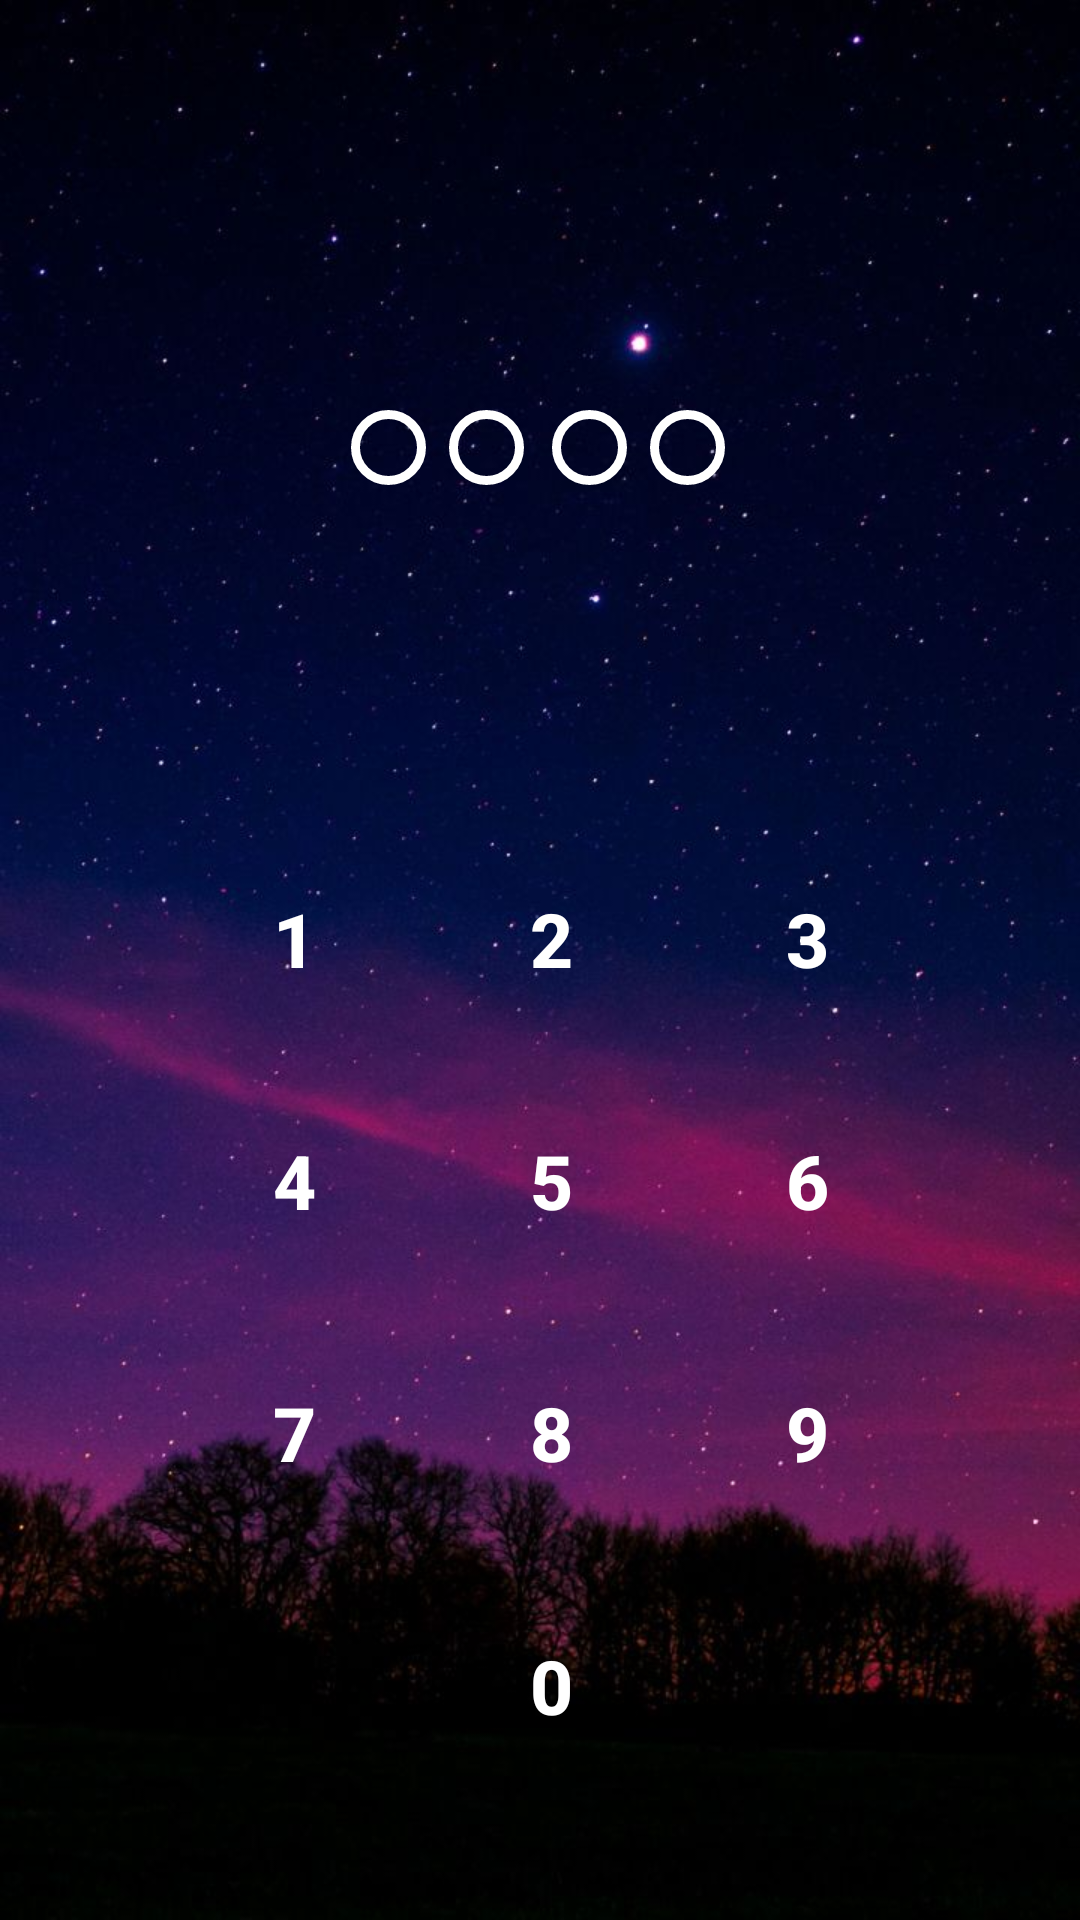

Named icons in this screenshot (1080 x 1920) and their bounding boxes, detection(x1, y1, x2, y2):
circle not: detection(351, 410, 426, 485), detection(449, 410, 524, 485), detection(552, 410, 627, 485), detection(650, 410, 725, 485)
